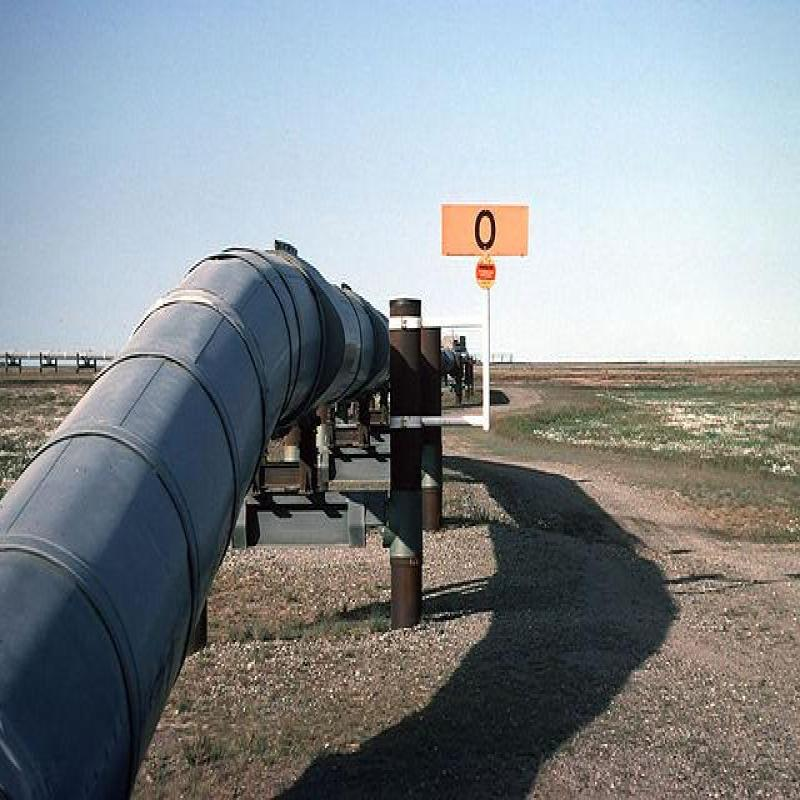Healthy: (2, 205, 298, 800)
